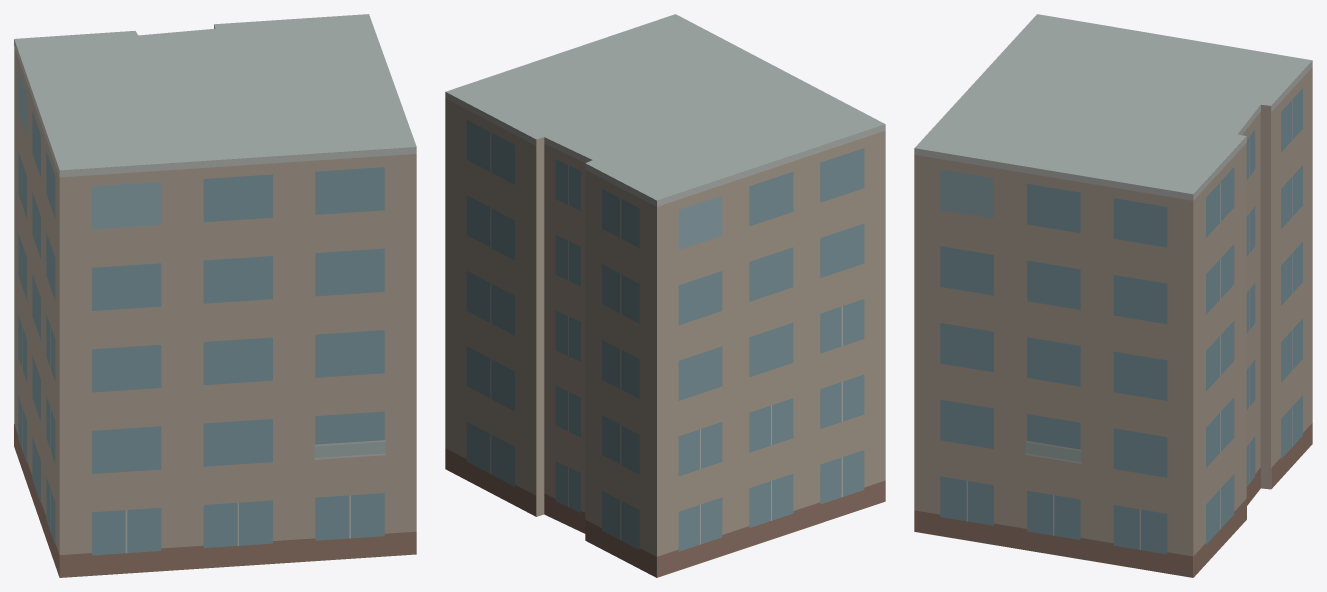
The model's file is survey-upis-32874371.glb.
3 views of the same model, side by side, from view 1: azimuth 30°, elevation 25°; view 2: azimuth 150°, elevation 25°; view 3: azimuth 270°, elevation 25° (orthographic). The views are drawn at different scales.
Visible parts, largest first — view 1: survey-upis-32874371.tmp; view 2: survey-upis-32874371.tmp; view 3: survey-upis-32874371.tmp.
Boxes of the visible parts, left/top/right/bottom form: survey-upis-32874371.tmp: left=14, top=14, right=416, bottom=577; survey-upis-32874371.tmp: left=445, top=14, right=885, bottom=577; survey-upis-32874371.tmp: left=914, top=14, right=1312, bottom=577.
Size of the model in its own units: 14.42 by 14.3 by 13.46.
